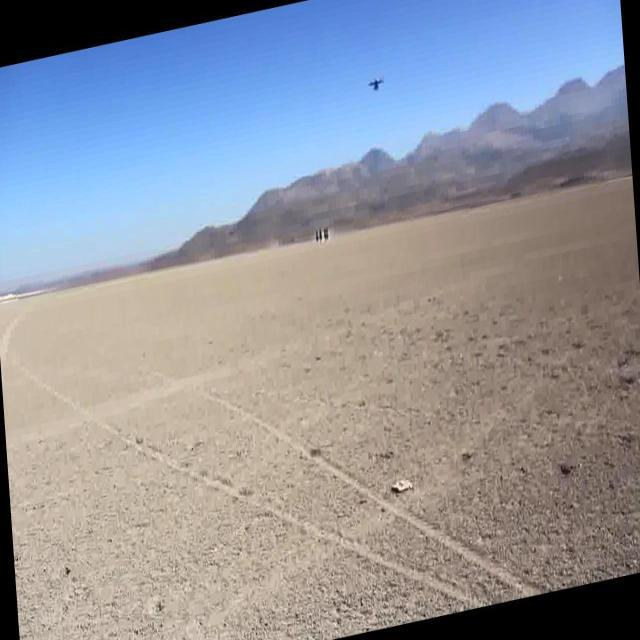drone: (366, 72, 391, 100)
